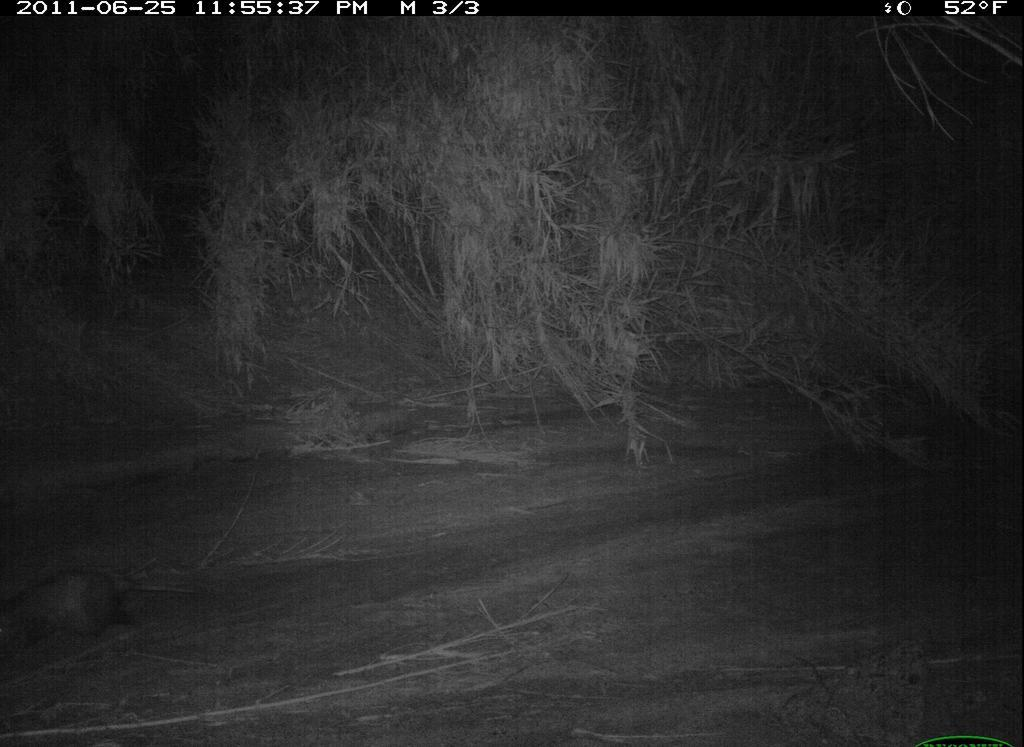opossum: (1, 562, 205, 653)
